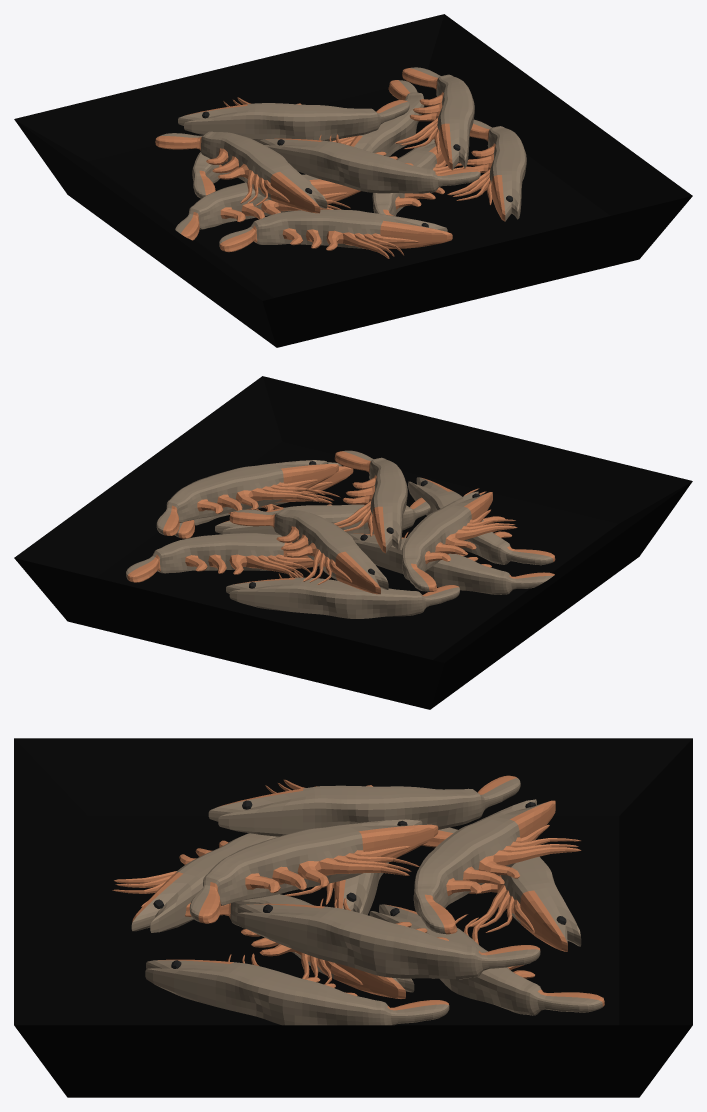
The model's file is Prawns on Plate.fbx.
3 views of the same model, one above another, from view 1: azimuth 30°, elevation 25°; view 2: azimuth 150°, elevation 25°; view 3: azimuth 270°, elevation 25° (orthographic). The views are drawn at different scales.
Visible parts, largest first — view 1: Prawns on Plate; view 2: Prawns on Plate; view 3: Prawns on Plate.
Part boxes in pixels (x1,y1,x2,y2): Prawns on Plate: [14, 14, 692, 347]; Prawns on Plate: [14, 376, 692, 709]; Prawns on Plate: [14, 738, 692, 1097].
Size of the model in its own units: 120 by 24.68 by 120.
